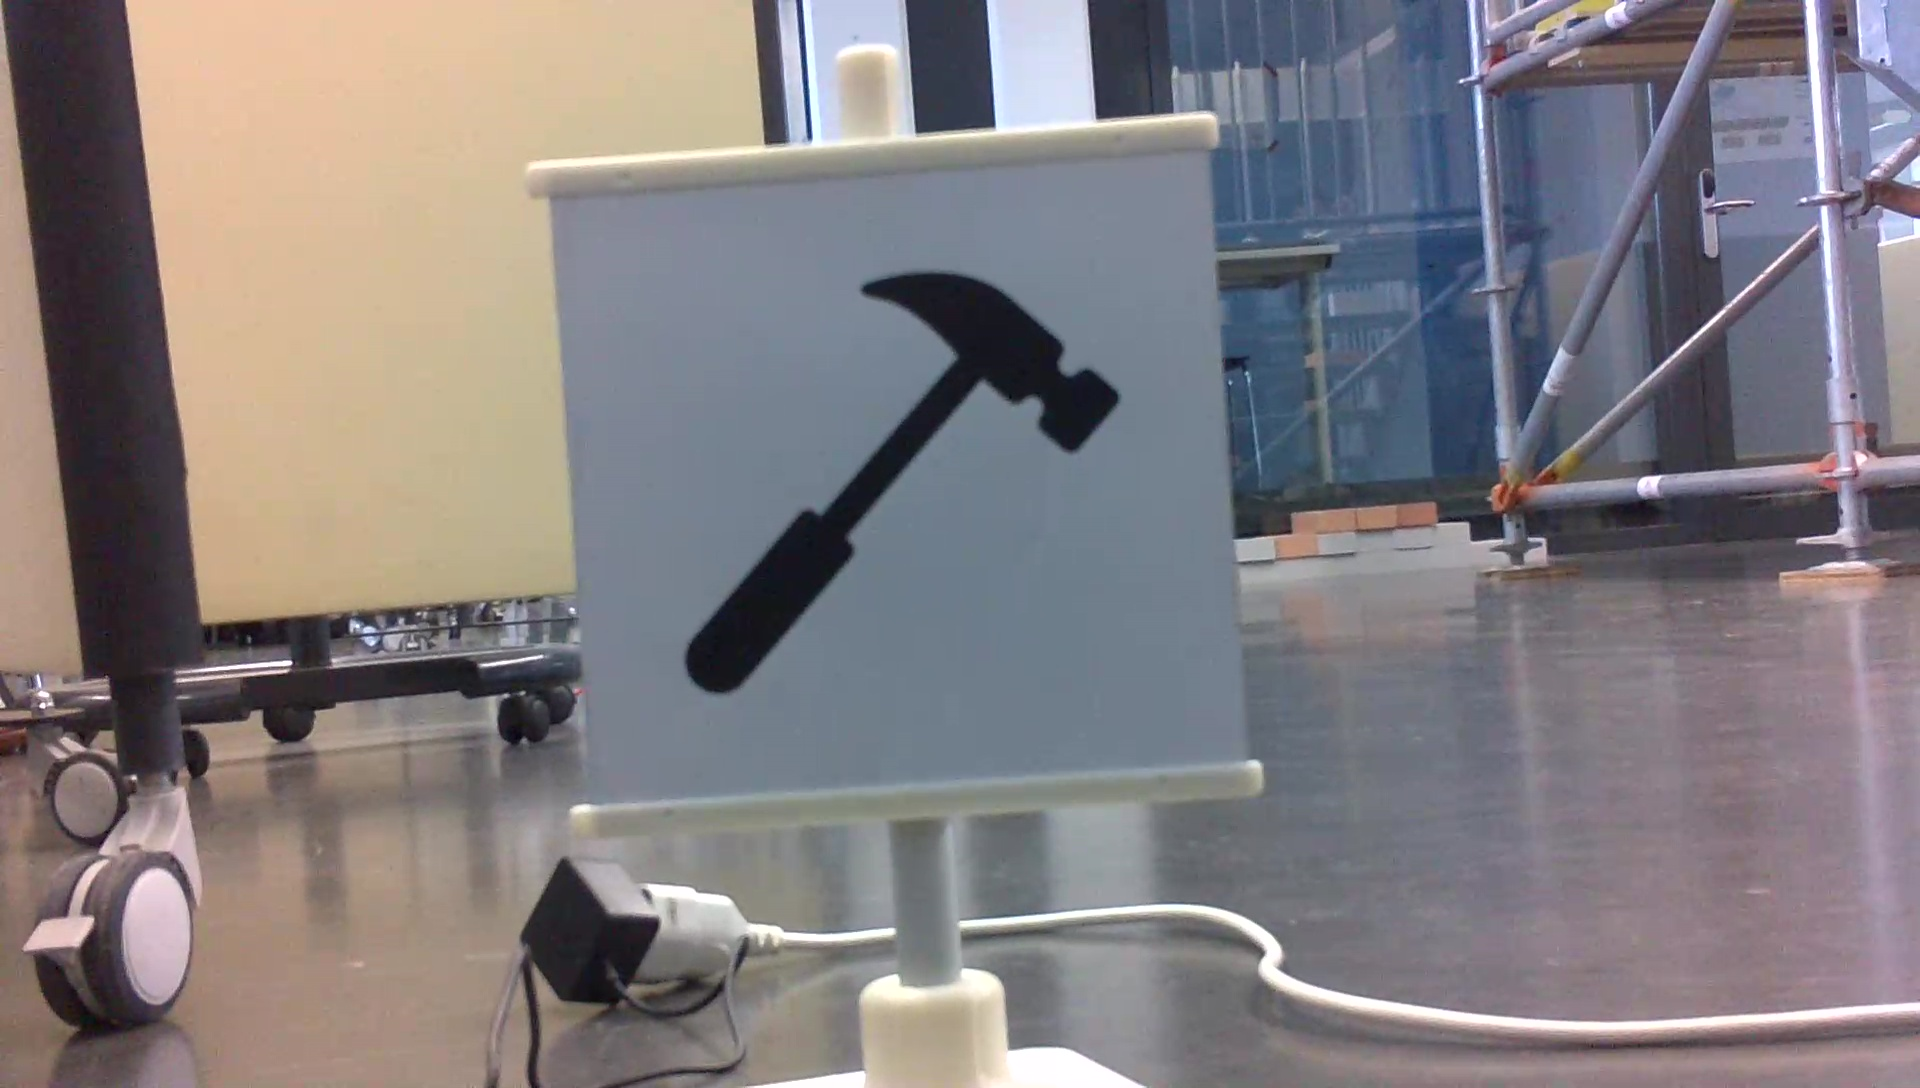hammer: (673, 256, 1124, 703)
